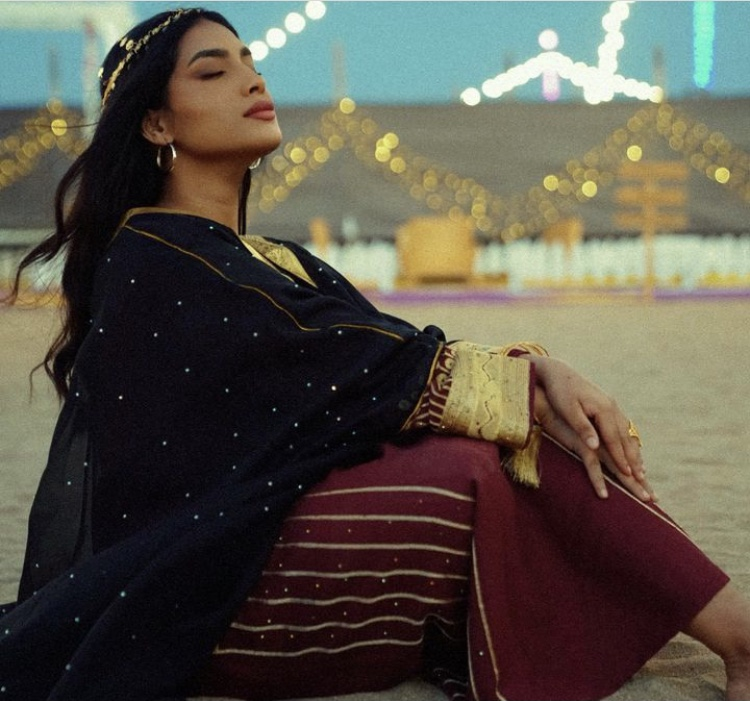Saudi_Founding_Day: (1, 8, 750, 701)
